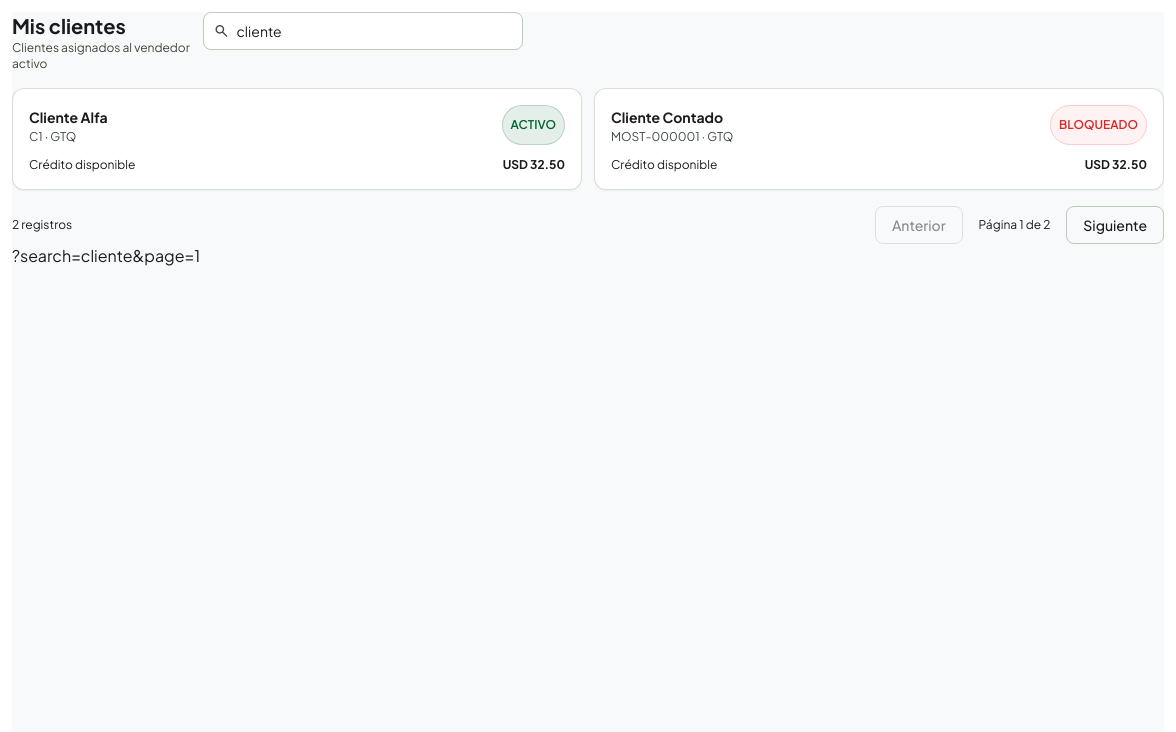
Test: ClientsPage search and customer details › shows error addresses inside the selected customer
Click the button "Cliente Alfa C1 · GTQ ACTIVO Crédito disponible USD 32.50".
click(68, 117)  # box [12,88,582,190]
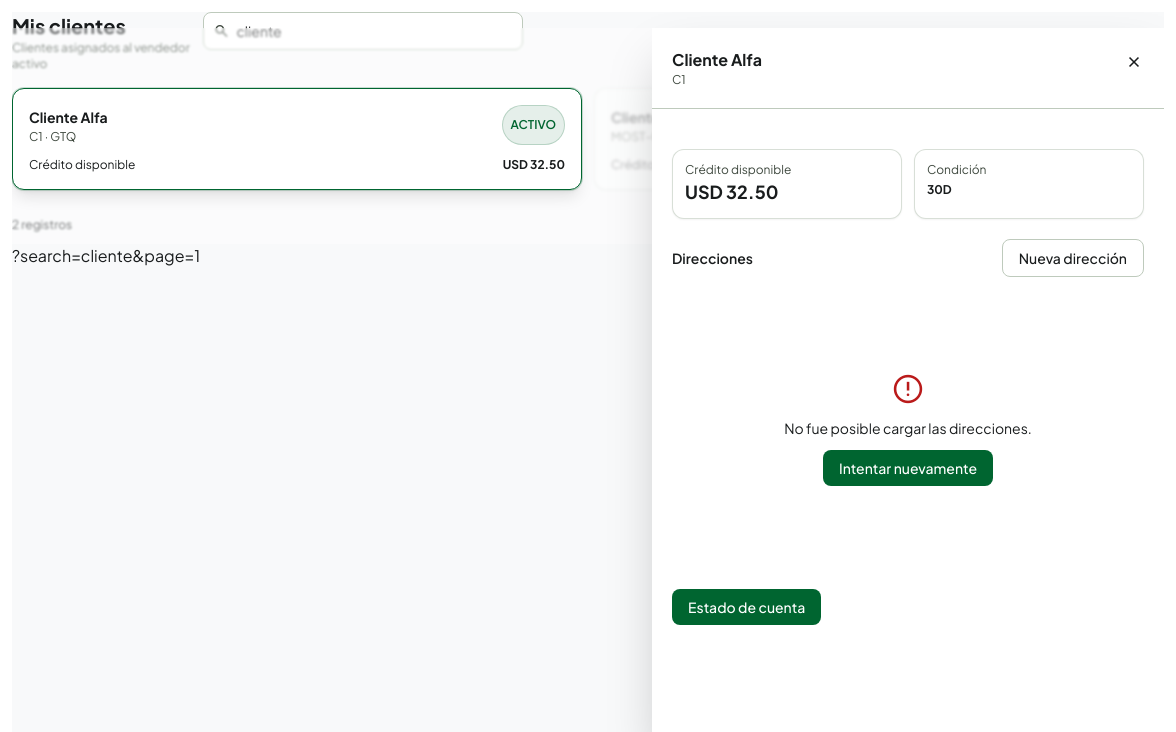
Result: the text "No fue posible cargar las direcciones." is shown at [784,418,1032,438]
